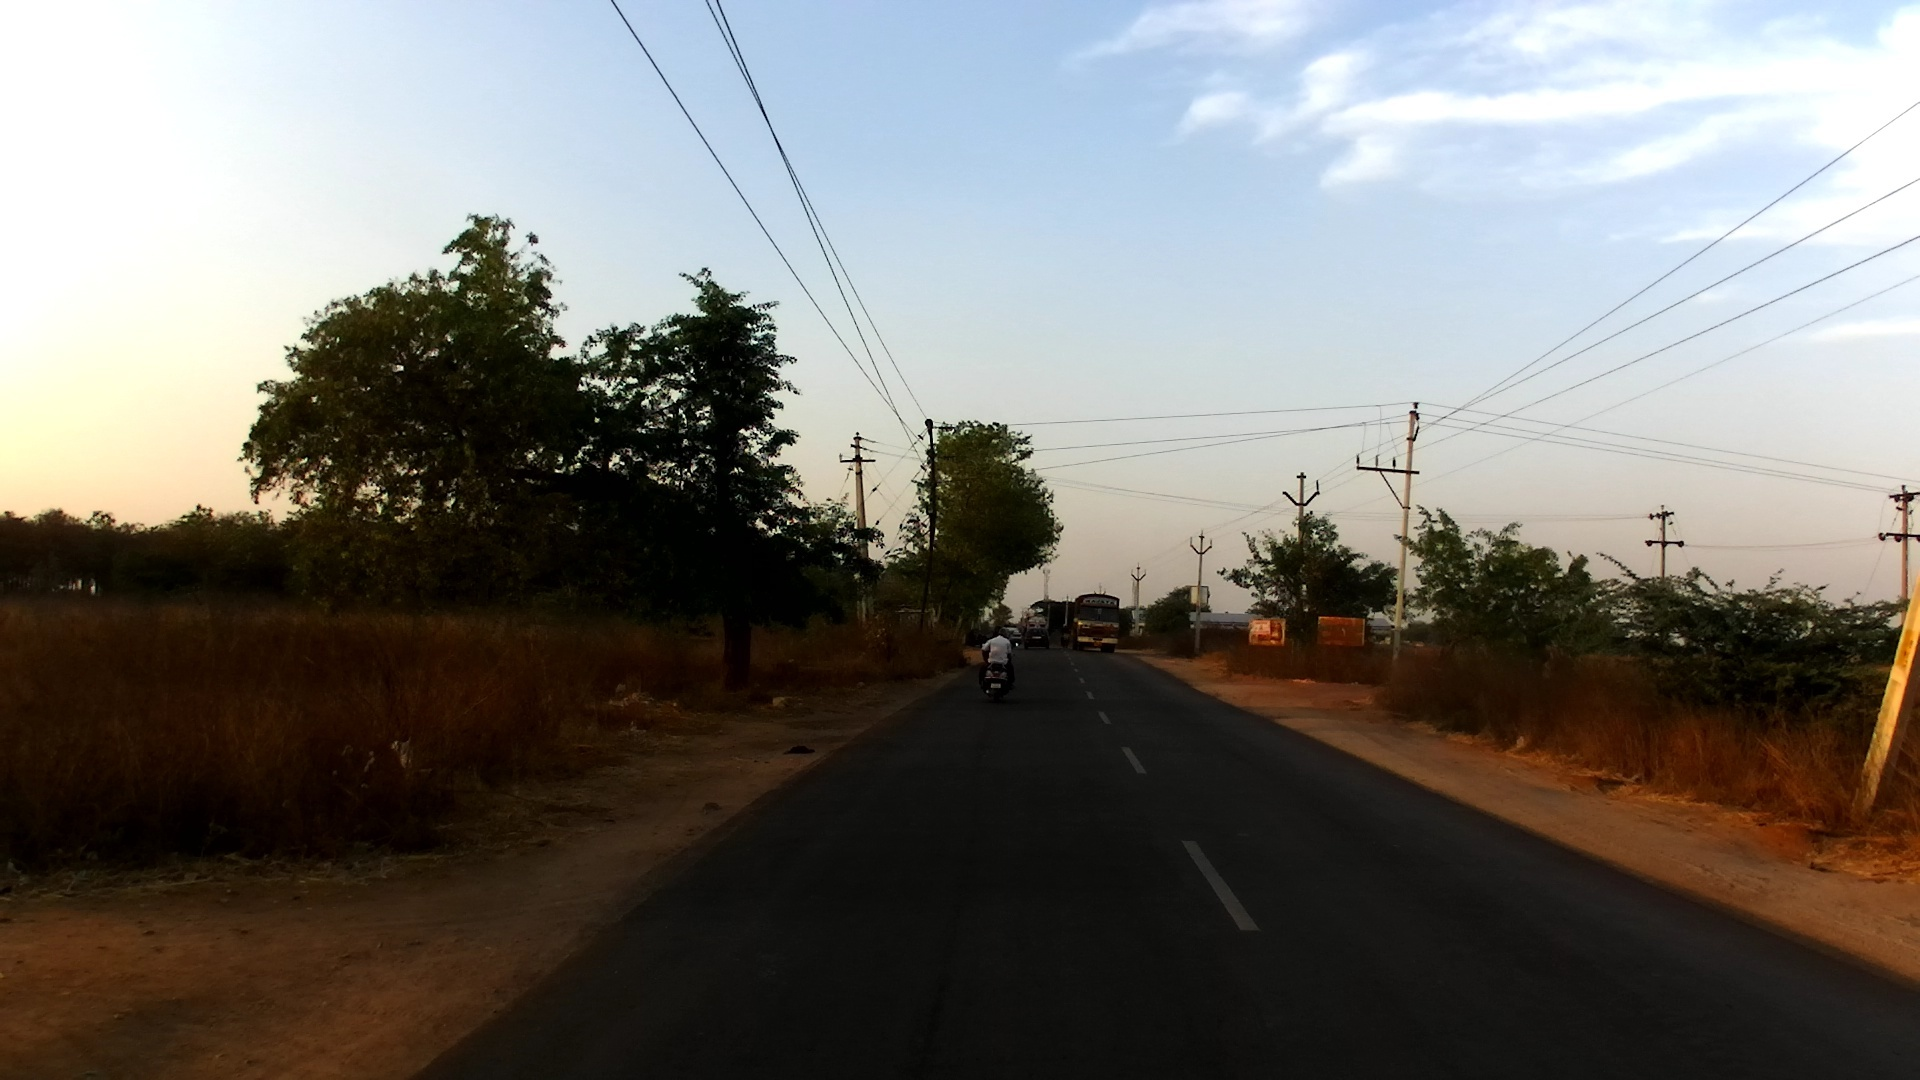car: (1022, 628, 1050, 650), (1000, 626, 1023, 649)
motorcycle: (979, 643, 1019, 705), (1061, 631, 1074, 649)
rider: (977, 627, 1016, 690), (986, 626, 1011, 657), (1060, 621, 1075, 644)
truck: (1069, 592, 1123, 655), (1020, 608, 1049, 634)
